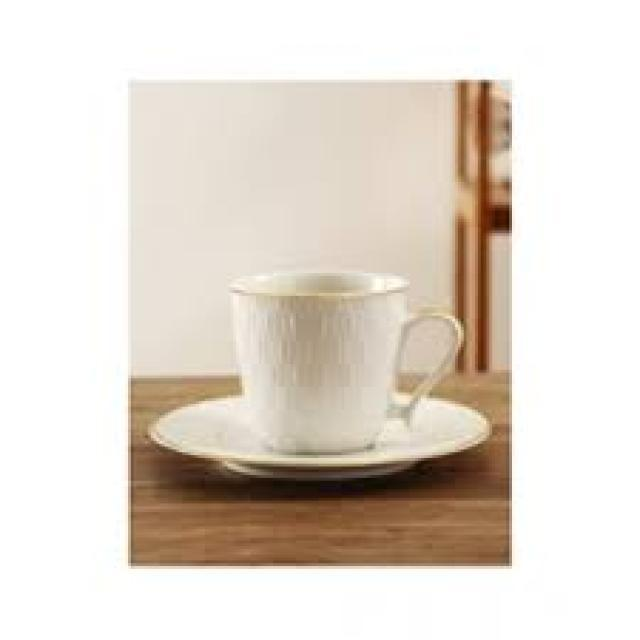taza: (203, 262, 476, 464)
